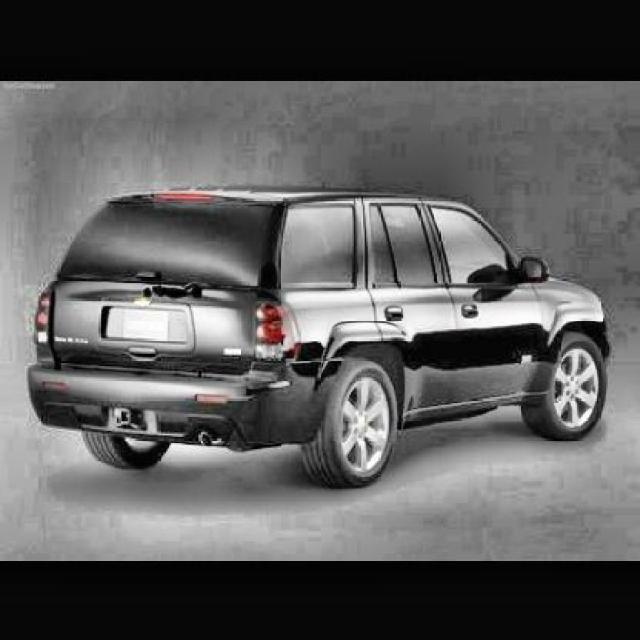black: (34, 183, 606, 484)
